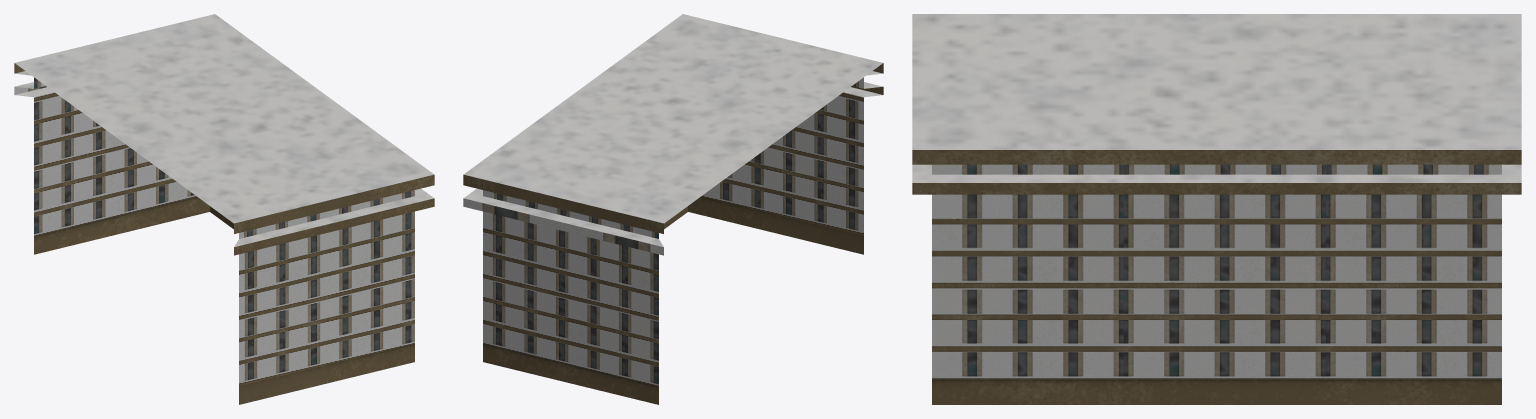
File: building3.dae
3 renders of one model, left to right at view 1: azimuth 30°, elevation 25°; view 2: azimuth 150°, elevation 25°; view 3: azimuth 270°, elevation 25°, orthographic. The views are drawn at different scales.
Visible parts, largest first — view 1: building3; view 2: building3; view 3: building3.
Part boxes in pixels (x1,y1,x2,y2): building3: [14, 14, 434, 404]; building3: [463, 14, 883, 404]; building3: [912, 14, 1521, 404].
Size of the model in its own units: 5.21 by 9.87 by 4.71.
1 material, 1 textured.
